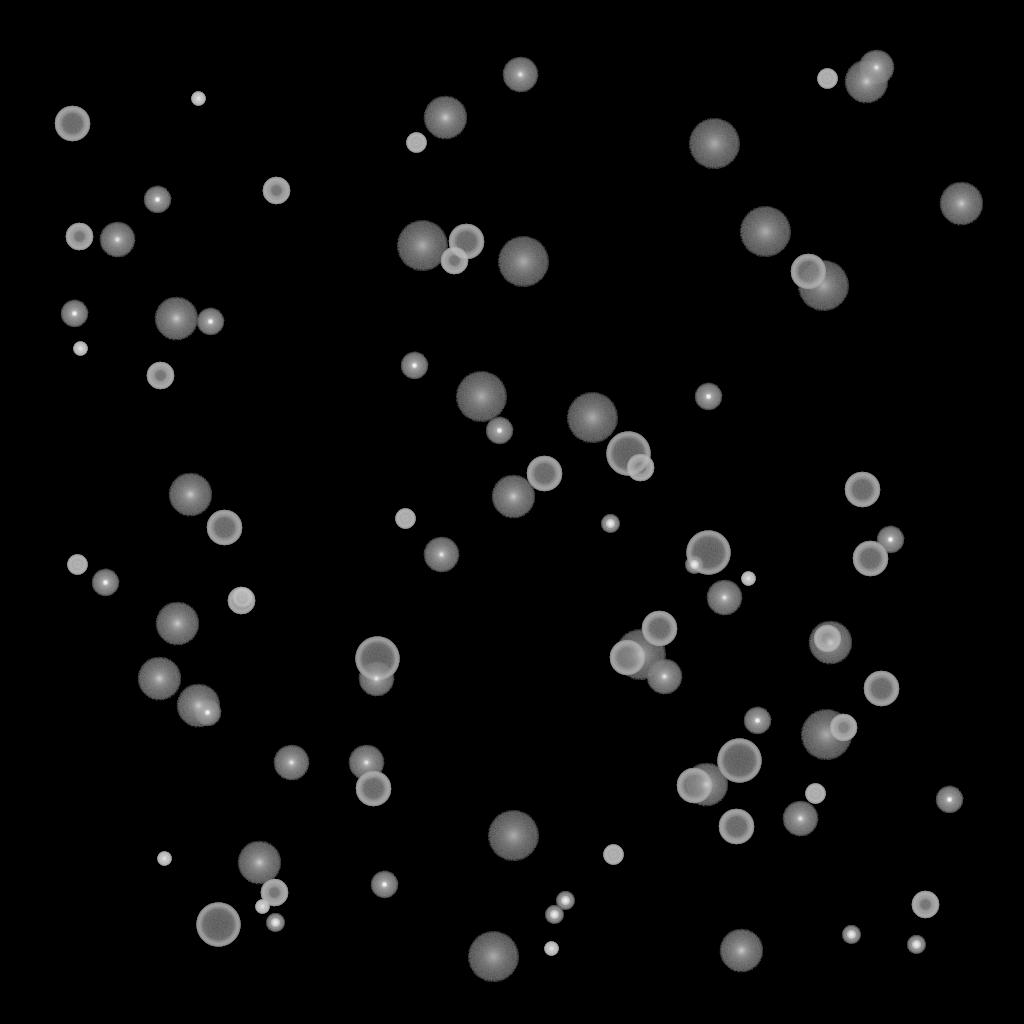depth:-10: (400, 352, 428, 380), (193, 699, 221, 727), (694, 383, 722, 411), (485, 417, 513, 445), (370, 871, 398, 899), (876, 526, 904, 554), (60, 300, 88, 328), (91, 569, 119, 597), (743, 707, 771, 735), (935, 786, 963, 814), (196, 308, 224, 336), (143, 186, 171, 214)
depth:-20: (266, 914, 284, 932), (545, 906, 563, 924), (685, 556, 703, 574), (601, 515, 619, 533), (556, 892, 574, 910), (842, 926, 860, 944), (907, 936, 925, 954)
depth:-30: (73, 342, 87, 356), (157, 852, 171, 866), (255, 900, 269, 914), (191, 92, 205, 106), (741, 572, 755, 586), (544, 942, 558, 956)
depth:-40: (805, 784, 825, 804), (406, 133, 426, 153), (232, 588, 252, 608), (395, 509, 415, 529), (817, 69, 837, 89), (603, 845, 623, 865), (67, 555, 87, 575)
depth:-50: (227, 587, 255, 615), (65, 223, 93, 251), (146, 362, 174, 390), (626, 454, 654, 482), (262, 177, 290, 205), (911, 891, 939, 919), (813, 625, 841, 653), (829, 714, 857, 742), (440, 247, 468, 275), (260, 879, 288, 907)
depth:-60: (641, 611, 677, 647), (676, 768, 712, 804), (609, 640, 645, 676), (863, 671, 899, 707), (844, 472, 880, 508), (206, 510, 242, 546), (852, 541, 888, 577), (355, 771, 391, 807), (790, 254, 826, 290), (718, 809, 754, 845), (526, 456, 562, 492), (448, 224, 484, 260), (54, 106, 90, 142)
depth:-70: (355, 637, 399, 681), (717, 739, 761, 783), (196, 903, 240, 947), (686, 531, 730, 575), (606, 432, 650, 476)
depth:0: (99, 222, 135, 258), (358, 661, 394, 697), (348, 745, 384, 781), (502, 57, 538, 93), (706, 580, 742, 616), (273, 745, 309, 781), (646, 659, 682, 695), (782, 801, 818, 837), (423, 537, 459, 573), (858, 50, 894, 86)
depth:10: (154, 297, 198, 341), (423, 96, 467, 140), (939, 182, 983, 226), (155, 602, 199, 646), (684, 763, 728, 807), (176, 684, 220, 728), (808, 621, 852, 665), (168, 473, 212, 517), (719, 929, 763, 973), (844, 60, 888, 104), (491, 475, 535, 519), (237, 841, 281, 885), (137, 657, 181, 701)
depth:20: (497, 237, 549, 287), (614, 630, 666, 680), (467, 932, 519, 982), (800, 710, 852, 760), (487, 811, 539, 861), (396, 221, 448, 271), (739, 207, 791, 257), (455, 372, 507, 422), (688, 119, 740, 169), (797, 261, 849, 311), (566, 393, 618, 443)
